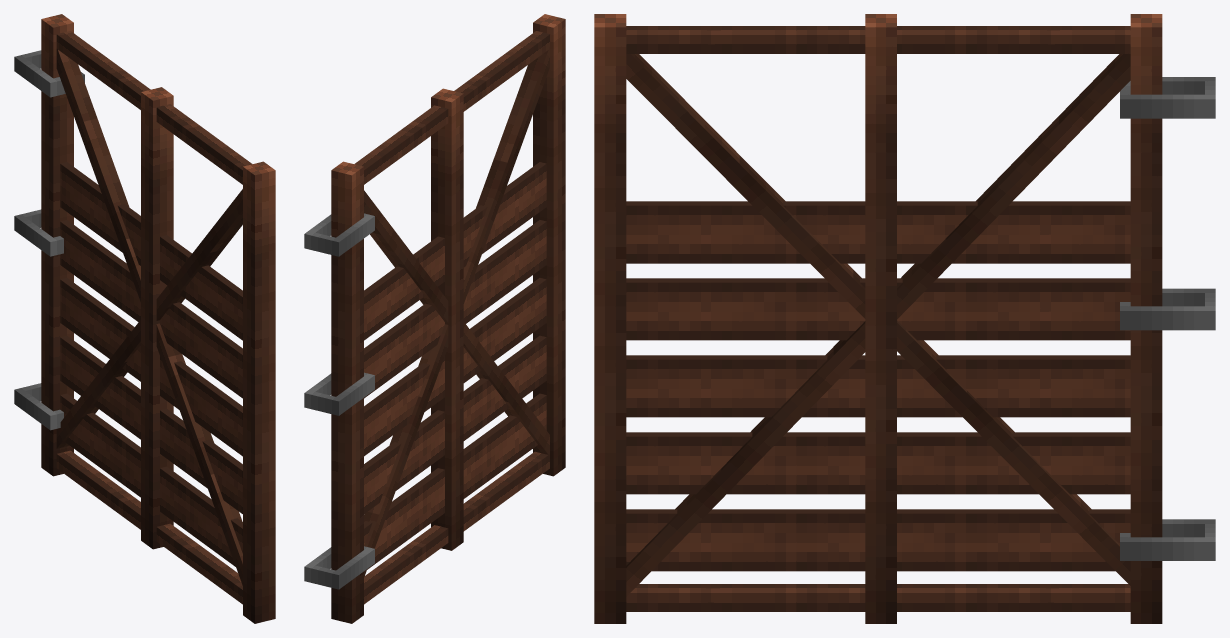
Rendered from fence_gate.obj.
The picture shows the model from 3 angles, left to right: view 1: azimuth 30°, elevation 25°; view 2: azimuth 150°, elevation 25°; view 3: azimuth 270°, elevation 25°; orthographic projection. The views are drawn at different scales.
Parts seen in each view (by area): view 1: baseModel; view 2: baseModel; view 3: baseModel.
Boxes of the visible parts, x1,y1,x2,y2 form: baseModel: (14,14,275,623); baseModel: (304,14,565,623); baseModel: (594,14,1215,623).
Bounding box in the file's own units: 0.3125 × 3.88 × 3.66.
